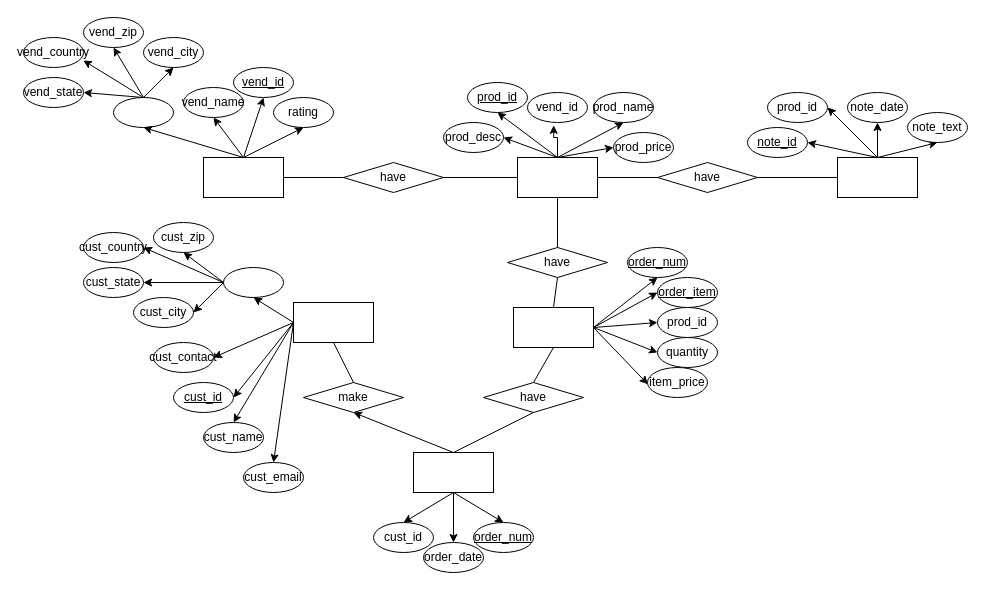
Some shapes in this 985 by 590 pixel diagram are drawn without their labels. Each missing label, with the centre of its shape:
"address" belongs at pixel 253 282.
"customers" belongs at pixel 333 322.
"orderitems" belongs at pixel 553 327.
"orders" belongs at pixel 453 472.
"productnotes" belongs at pixel 877 177.
"products" belongs at pixel 557 177.
"vend_address" belongs at pixel 143 112.
"vendors" belongs at pixel 243 177.
